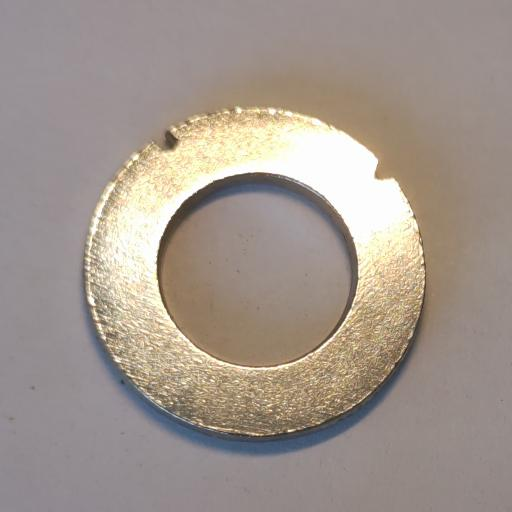burr: (151, 130, 181, 153), (372, 158, 396, 182)
